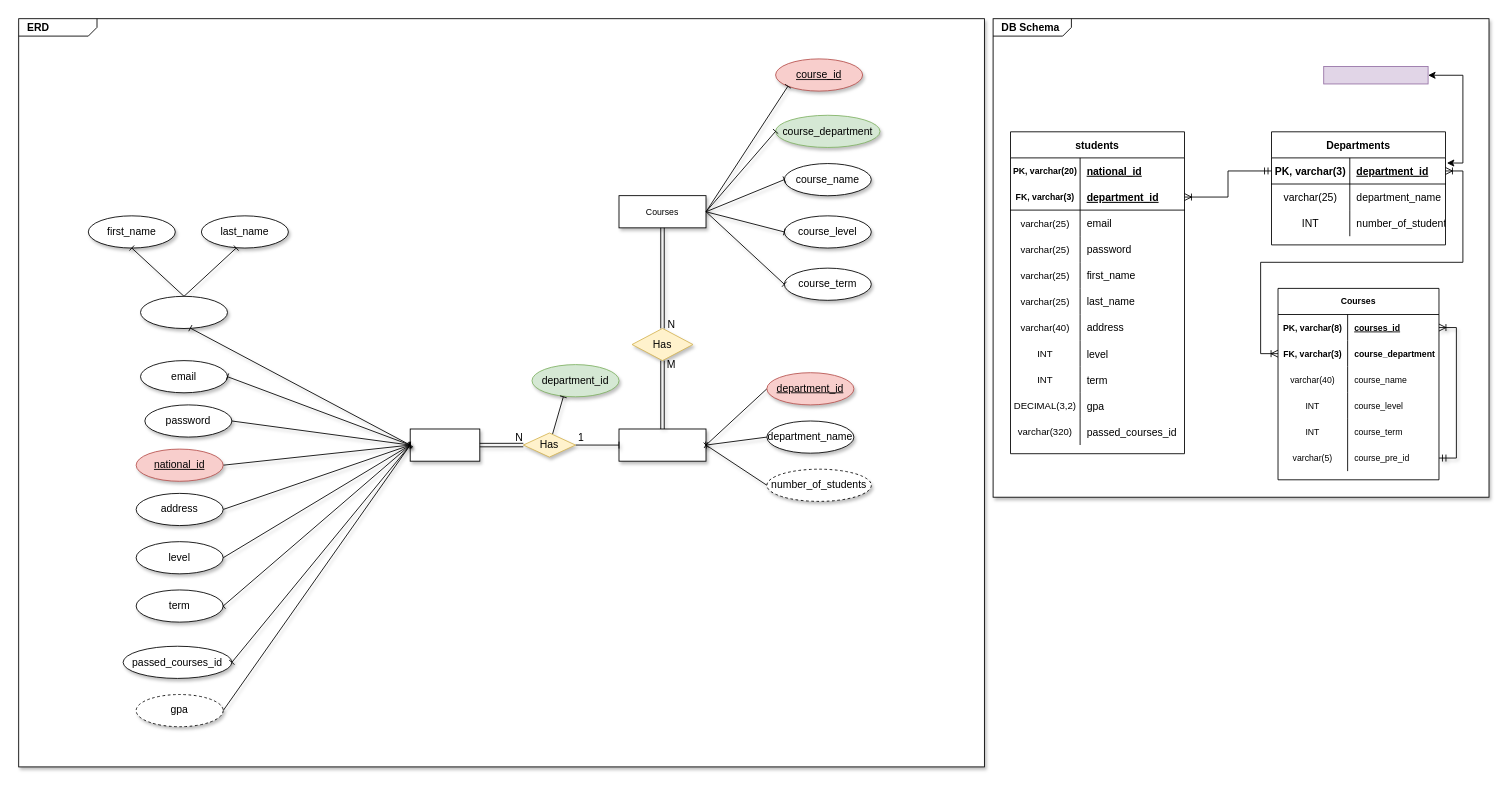
The diagram is 1509 pixels wide and 788 high, and some of its shapes have lost their labels. The shapes that lost their labels are listed below. From the top down, each one's centre as x and y in pixels, then its label:
the point at 1375,75: CS, IS, IT, GR"General"
the point at 184,313: name
the point at 445,446: Student
the point at 663,446: Department
